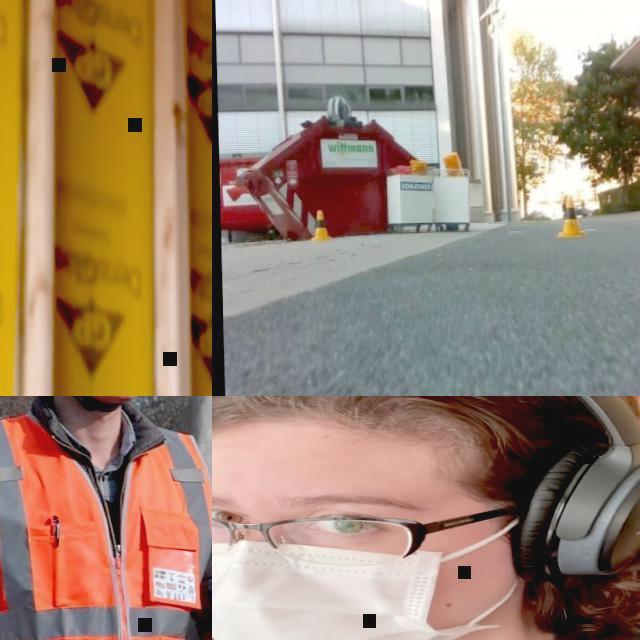mask: (212, 533, 531, 640)
no_helmet: (212, 396, 635, 448)
person: (212, 396, 640, 640), (0, 396, 212, 640)
safety_cone: (556, 196, 588, 237), (310, 210, 332, 242)
vest: (0, 410, 212, 640)
